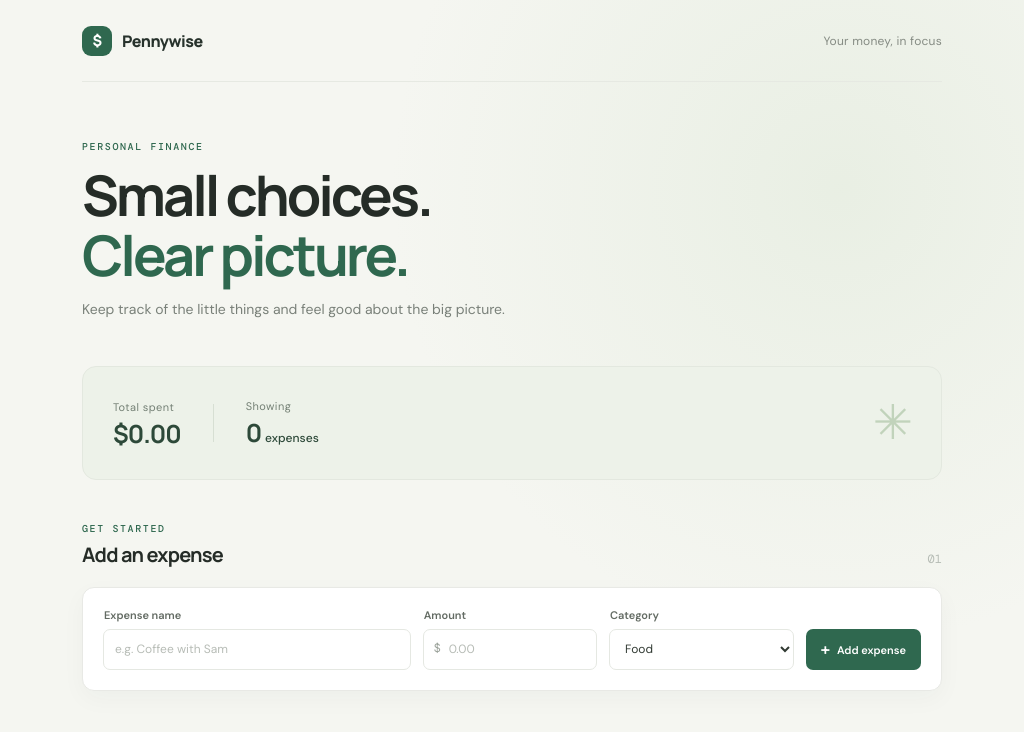
Test: expense tracker › rejects an empty title without adding an expense
Type "25" into the number field labelled "Amount".
click(510, 649); type("25")  # box x1=423 y1=629 x2=597 y2=670
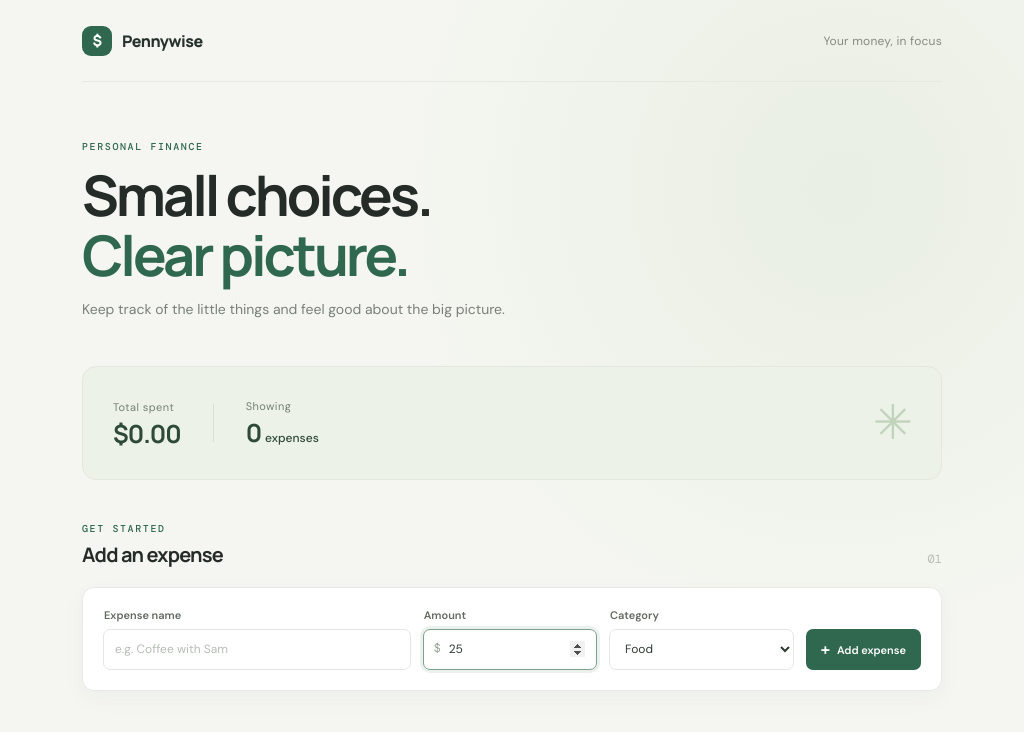
Click the button "+ Add expense".
click(863, 649)  # box x1=806 y1=629 x2=921 y2=670
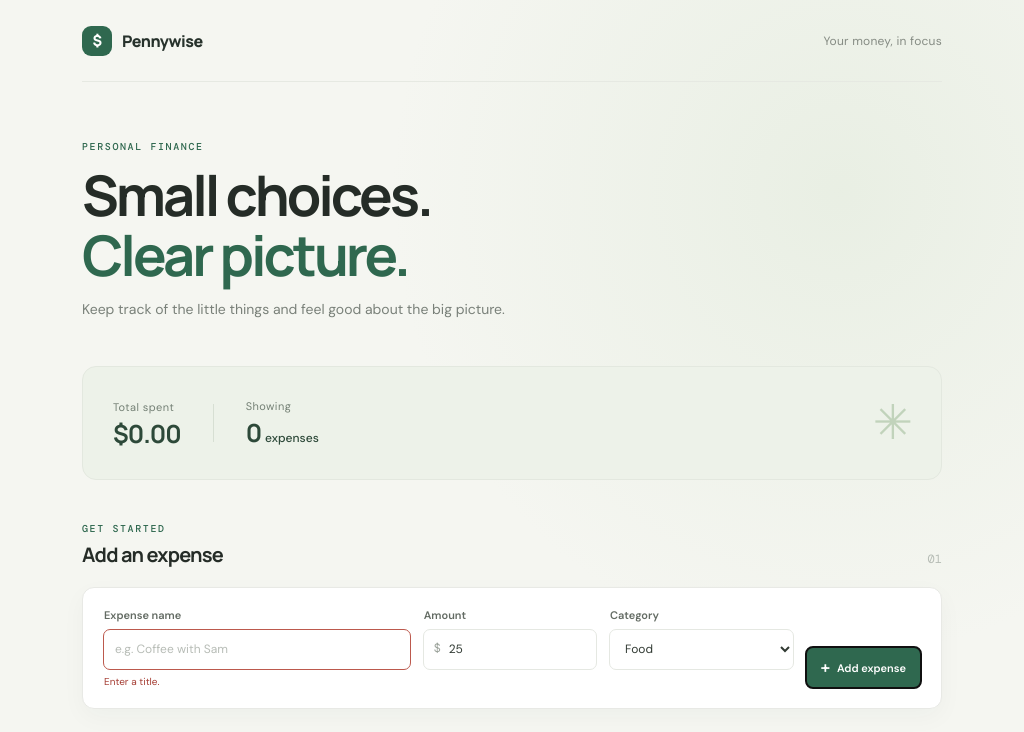
expect the element with test id "count" shows "0": met, box x1=246 y1=415 x2=261 y2=450
expect the text "Enter a title." is shown: met, box x1=104 y1=675 x2=160 y2=688
